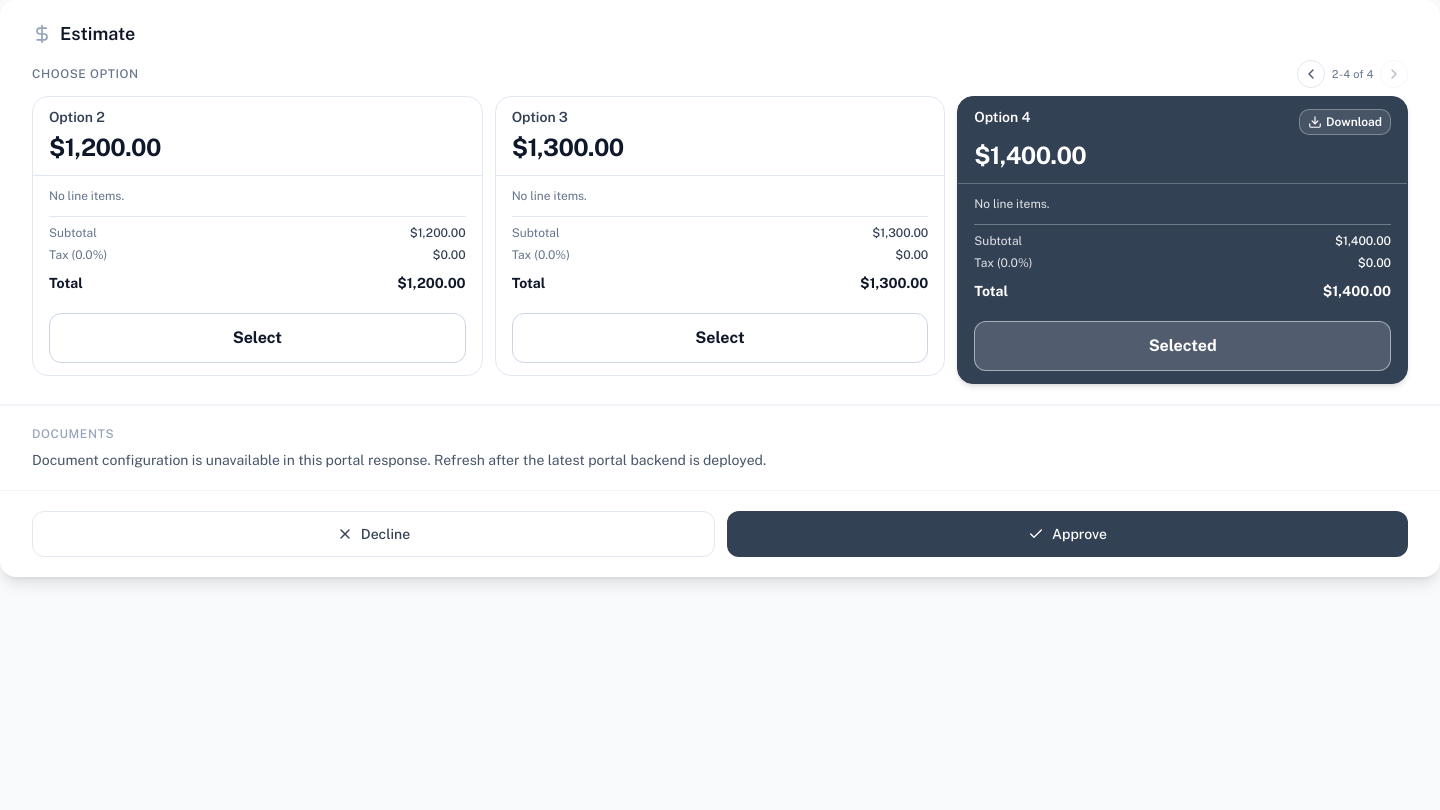
ClientPortalEstimate › shows estimate version cards in a finite carousel when there are more than three versions
This screenshot has width=1440, height=810.
Expected: the text "Option 1" is not shown
Expected: the text "Option 2" is shown, top-left (49, 109), bottom-right (105, 126)
Click the button named "Previous options": point(1311, 74) top-left (1297, 60), bottom-right (1325, 88)
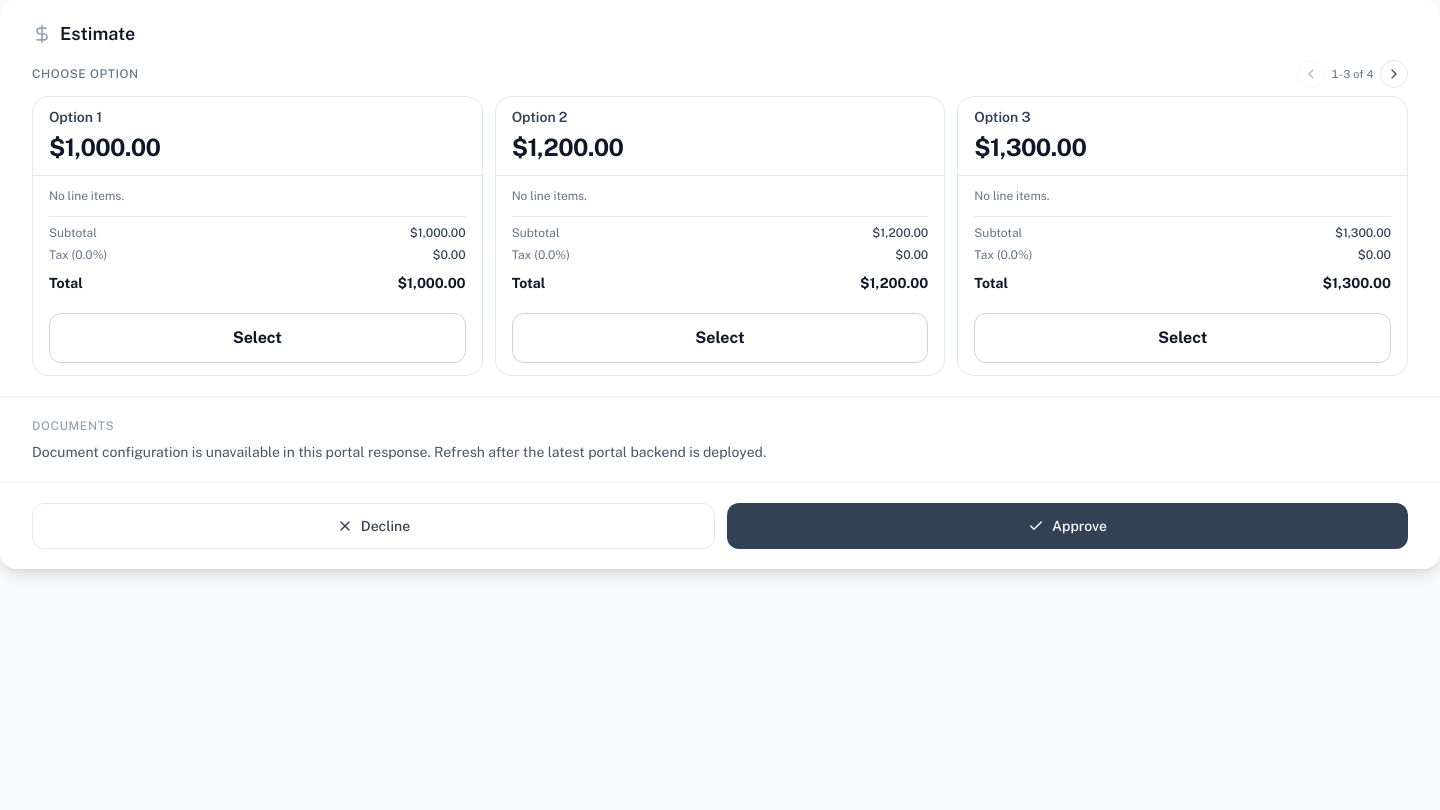
Expected: the button named "Next options" is enabled, top-left (1380, 60), bottom-right (1408, 88)
Expected: the text "Option 1" is shown, top-left (49, 109), bottom-right (102, 126)
